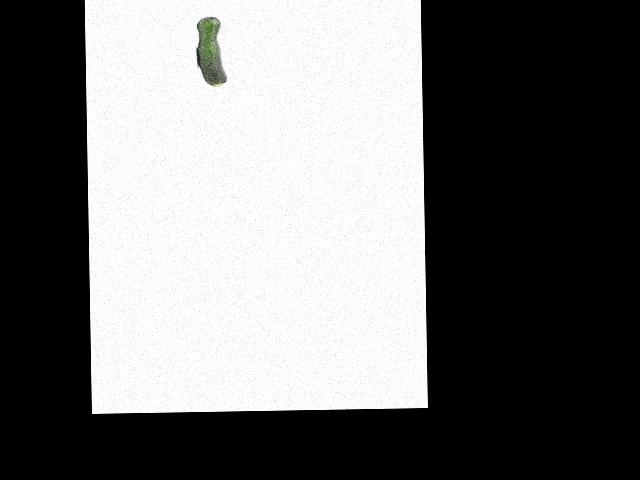cucumber: (196, 17, 227, 87)
